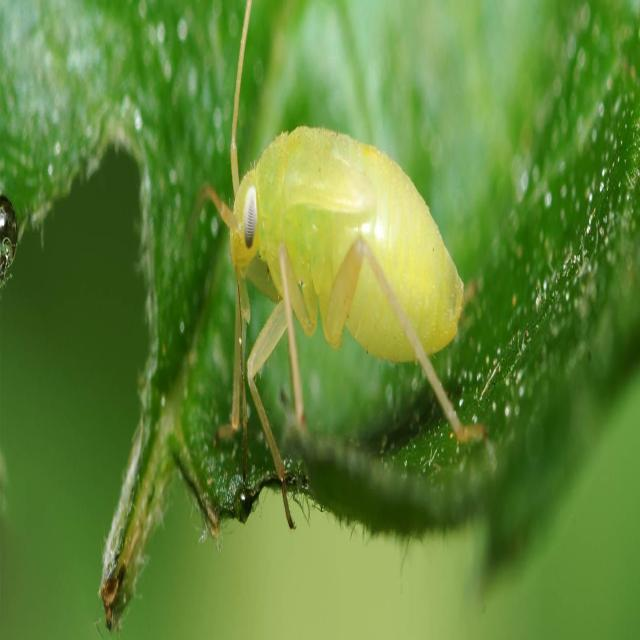Aphid: (195, 1, 502, 531)
